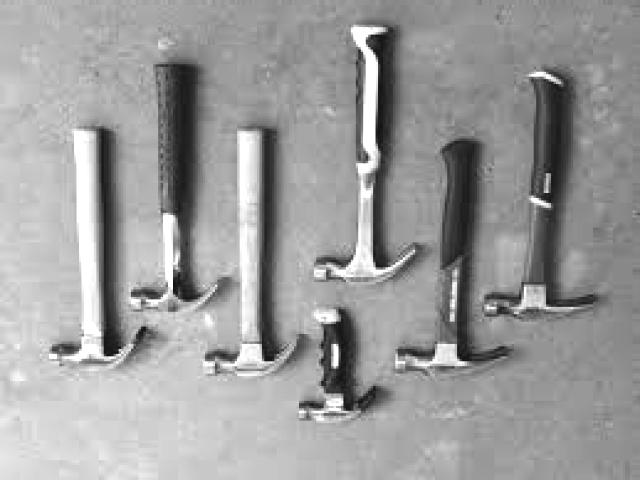Hammer: (487, 71, 594, 321), (397, 141, 508, 377), (49, 129, 154, 371), (318, 25, 416, 282), (206, 129, 298, 375), (134, 65, 219, 312), (299, 307, 376, 421)
